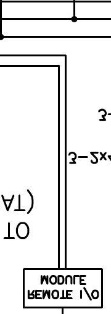remote_io_module: (22, 268, 103, 308)
